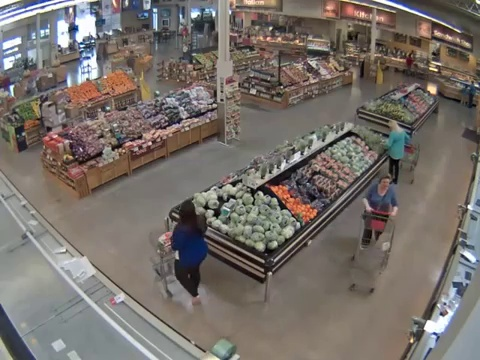face: (379, 178, 390, 189)
